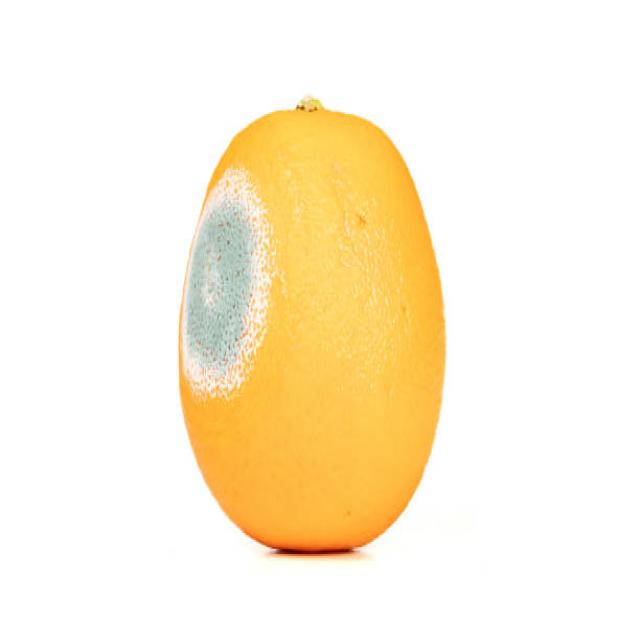Rotten: (176, 88, 447, 555)
